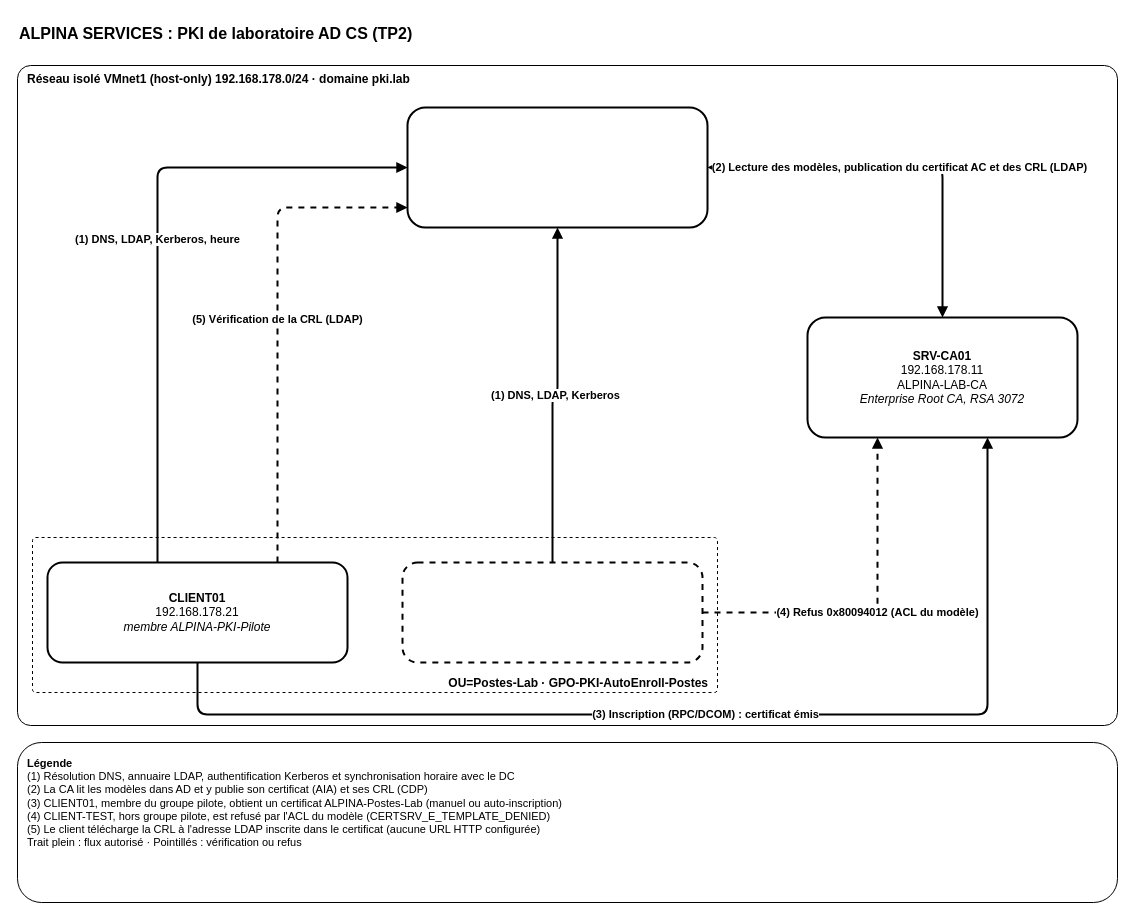
This 1135x920 diagram has some shape labels left out. The centre of each missing label's shape, as x and y in pixels:
CLIENT-TEST 192.168.178.22 hors groupe pilote: [552,612]
SRV-DC01 192.168.178.10 AD DS + DNS (zone pki.lab) Modèles, GPO, CDP/AIA (LDAP): [557,167]
